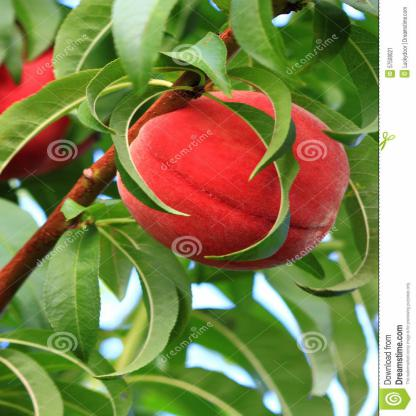peach leaf: (224, 100, 302, 268), (104, 78, 185, 223), (0, 65, 111, 166), (109, 242, 180, 398), (36, 224, 103, 364), (225, 66, 300, 176)
